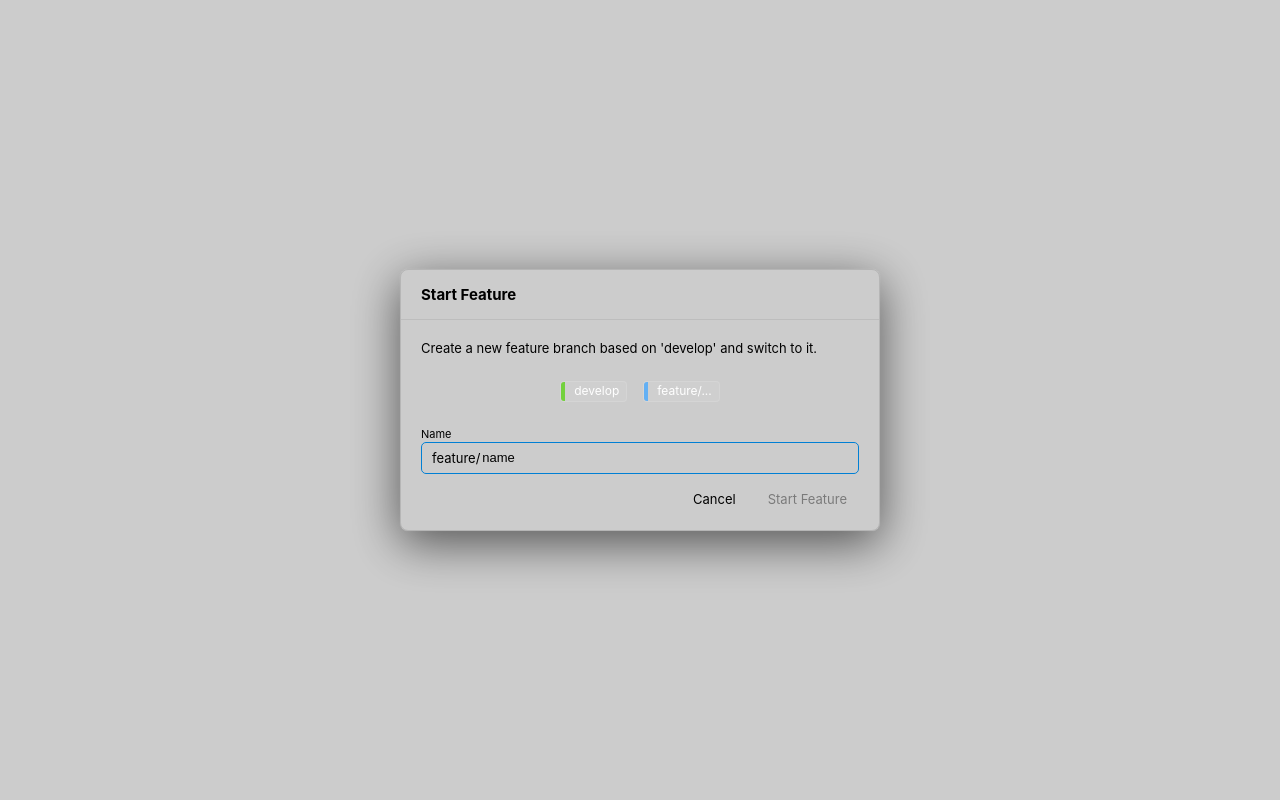
FlowStartModal › primary button is disabled until name is non-empty
Expected: the button "Start Feature" is disabled, top-left (756, 486), bottom-right (859, 512)
Type "login" into the field with class "flow-name". click: (669, 458)
box: top-left (480, 444), bottom-right (858, 472)
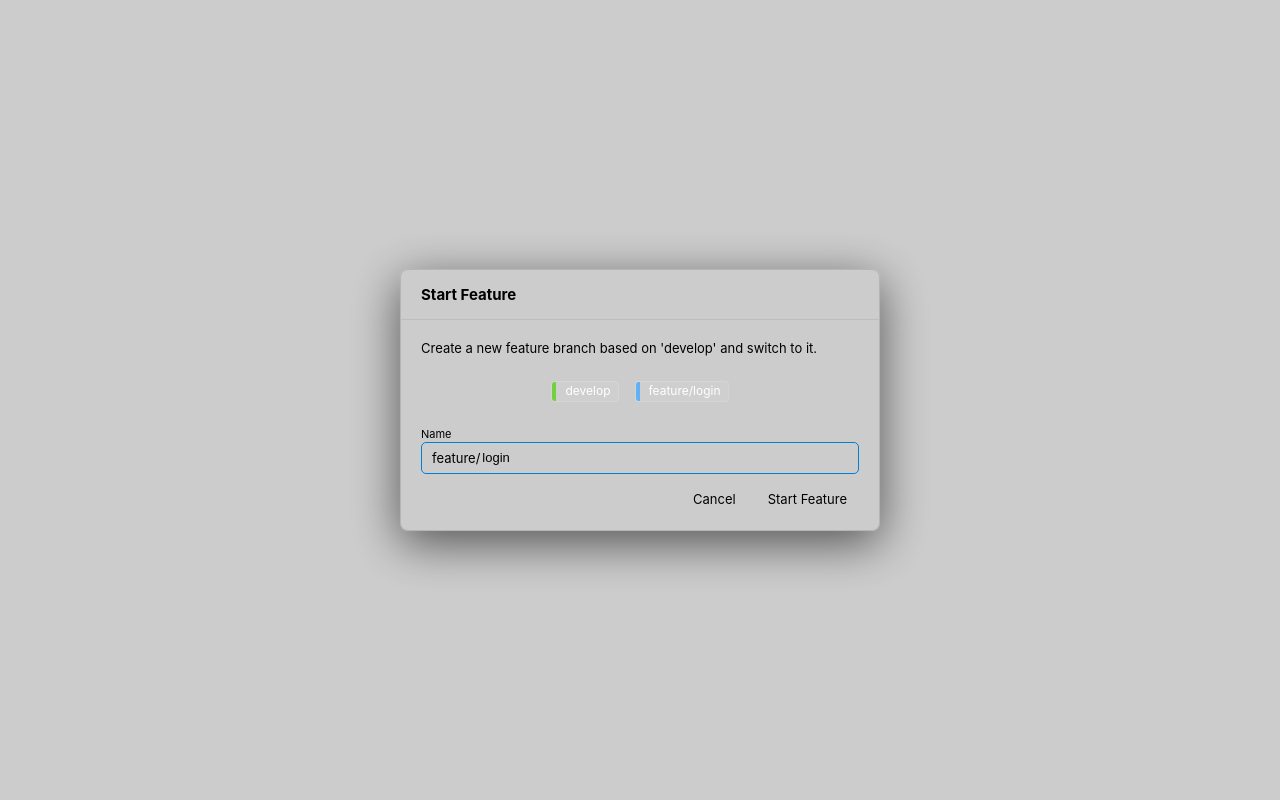
Expected: the button "Start Feature" is enabled, top-left (756, 486), bottom-right (859, 512)
